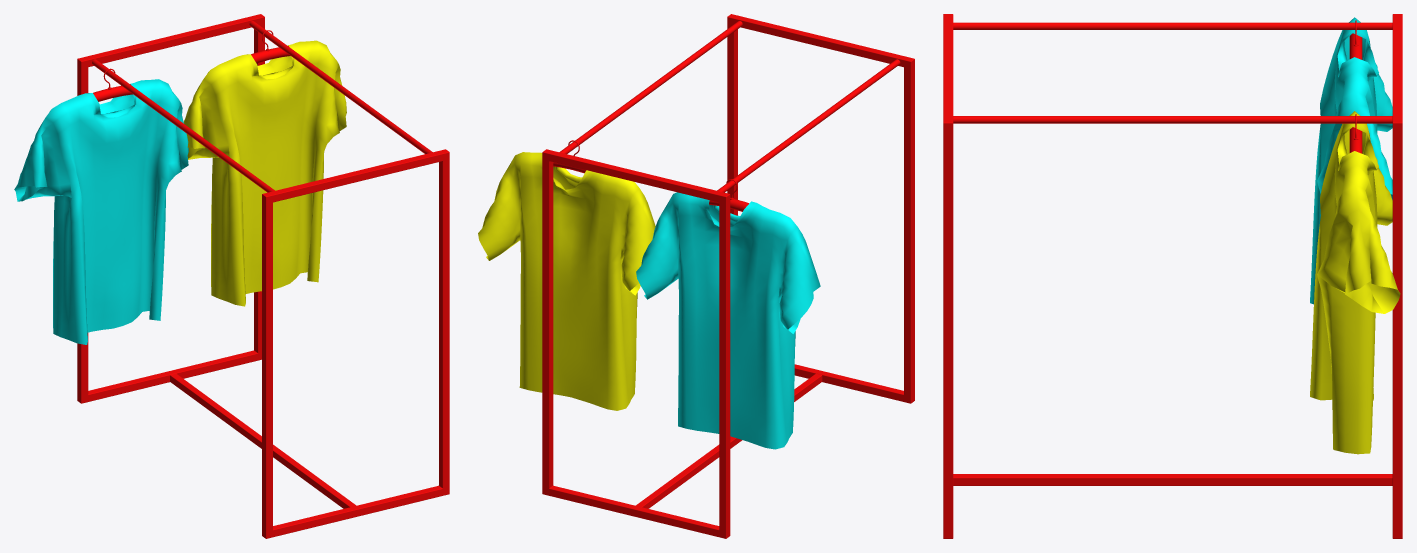
The model's file is M_Shirts.fbx.
The picture shows the model from 3 angles, left to right: view 1: azimuth 30°, elevation 25°; view 2: azimuth 150°, elevation 25°; view 3: azimuth 270°, elevation 25°; orthographic projection. The views are drawn at different scales.
Parts seen in each view (by area): view 1: M_Shirt01, M_Shirt02, M_Clothes_Steel01; view 2: M_Shirt01, M_Shirt02, M_Clothes_Steel01; view 3: M_Clothes_Steel01, M_Shirt02, M_Shirt01.
Boxes of the visible parts, box(x1,y1,x2,y2) form: M_Shirt01: box(14, 68, 188, 344); M_Shirt02: box(184, 30, 346, 306); M_Clothes_Steel01: box(77, 14, 449, 538); M_Shirt01: box(636, 179, 820, 449); M_Shirt02: box(478, 140, 655, 410); M_Clothes_Steel01: box(542, 14, 914, 538); M_Clothes_Steel01: box(943, 14, 1402, 538); M_Shirt02: box(1310, 111, 1400, 454); M_Shirt01: box(1310, 17, 1392, 304).
Bounding box in the file's own units: 159 × 160 × 160.
